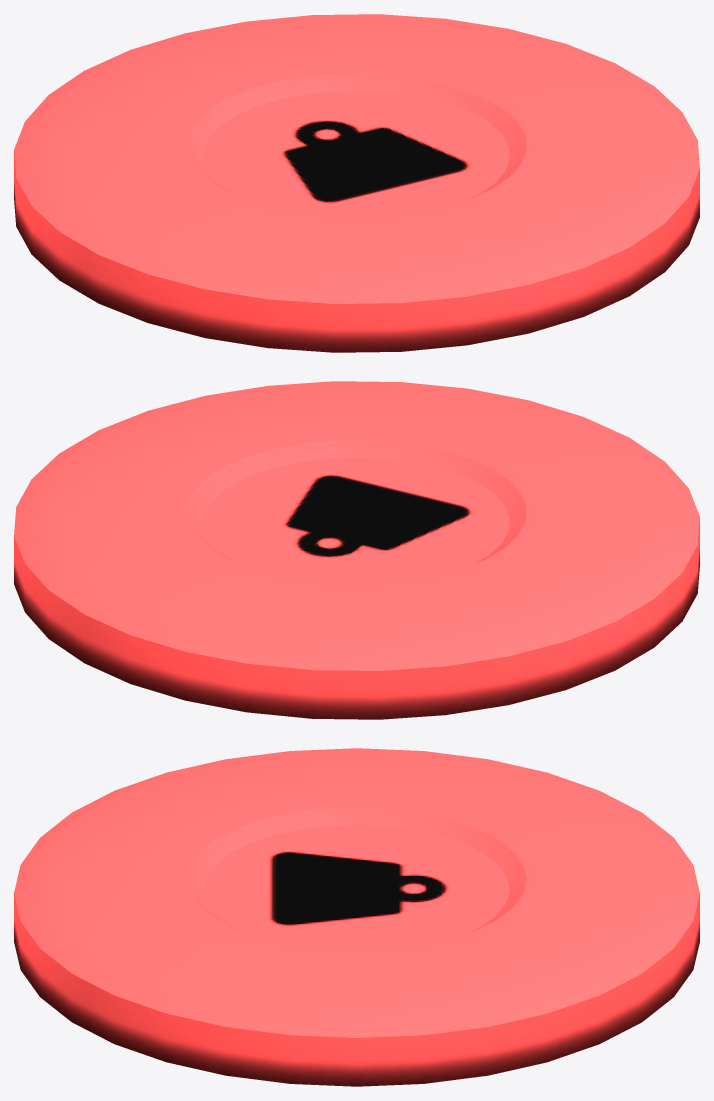
The model's file is weightedbutton_top.gltf.
3 views of the same model, one above another, from view 1: azimuth 30°, elevation 25°; view 2: azimuth 150°, elevation 25°; view 3: azimuth 270°, elevation 25° (orthographic).
Visible parts, largest first — view 1: WeightedButtonTop; view 2: WeightedButtonTop; view 3: WeightedButtonTop.
Part boxes in pixels (x1,y1,x2,y2): WeightedButtonTop: (14,14,699,352); WeightedButtonTop: (14,381,699,719); WeightedButtonTop: (14,748,699,1086).
Bounding box in the file's own units: 1.57 × 0.315 × 1.57.
1 material, 1 textured.
